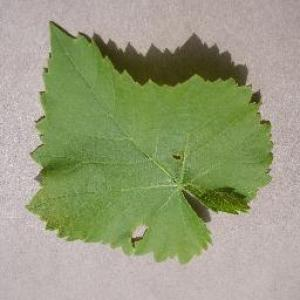Folha: (25, 18, 274, 264)
